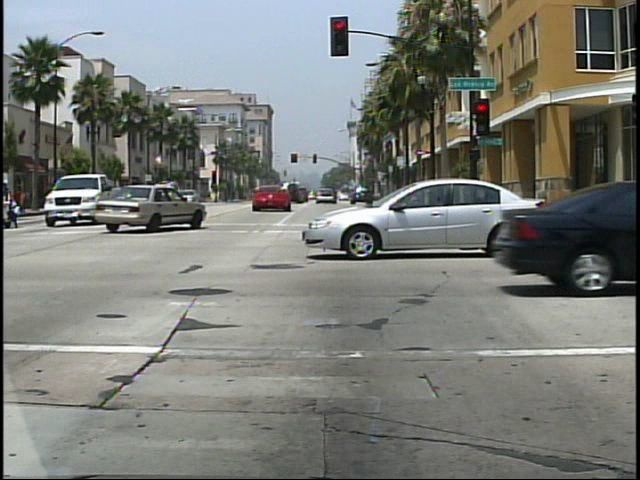person: (1, 177, 24, 230)
